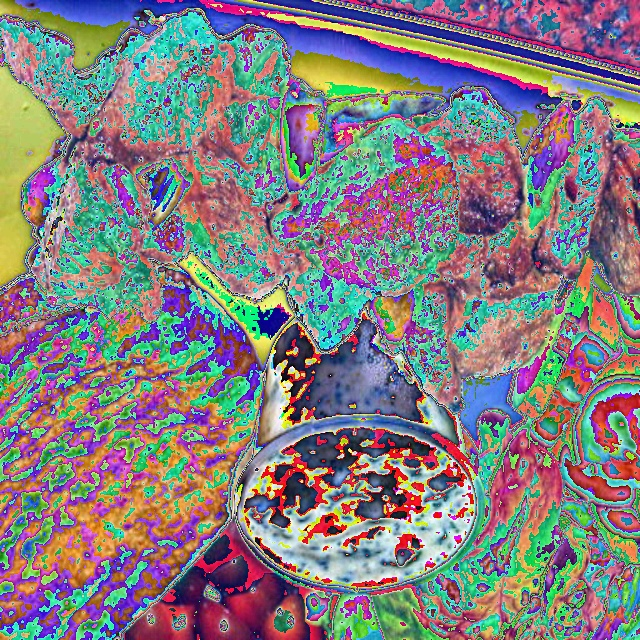background: (0, 10, 640, 639)
